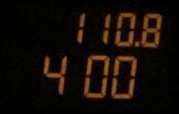-: (133, 40, 140, 47)
0: (109, 53, 138, 98), (82, 53, 110, 99), (113, 11, 136, 47)
1: (75, 11, 86, 45), (101, 12, 111, 44)
4: (40, 54, 68, 95)
8: (139, 11, 162, 47)
